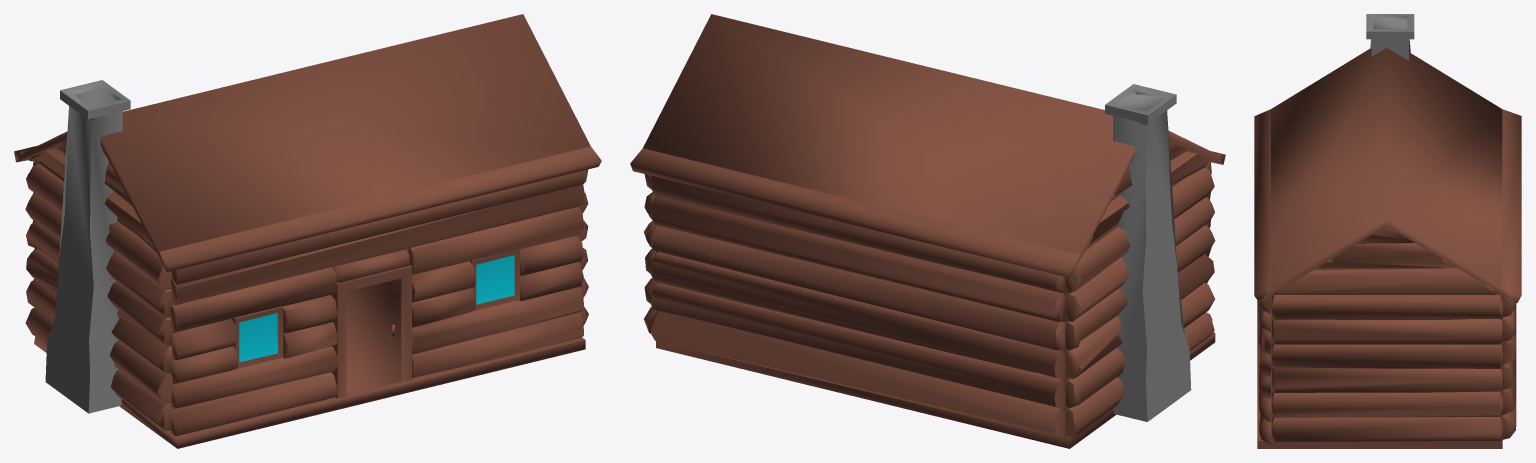
The model's file is spawningcabin_scaled 0.01.fbx.
The picture shows the model from 3 angles, left to right: view 1: azimuth 30°, elevation 25°; view 2: azimuth 150°, elevation 25°; view 3: azimuth 270°, elevation 25°; orthographic projection. The views are drawn at different scales.
Visible parts, largest first — view 1: Cube; view 2: Cube; view 3: Cube.
Part boxes in pixels (x1,y1,x2,y2): Cube: (14, 14, 601, 448); Cube: (630, 14, 1225, 448); Cube: (1254, 14, 1521, 448).
Size of the model in its own units: 6.27 by 3.92 by 3.73.
